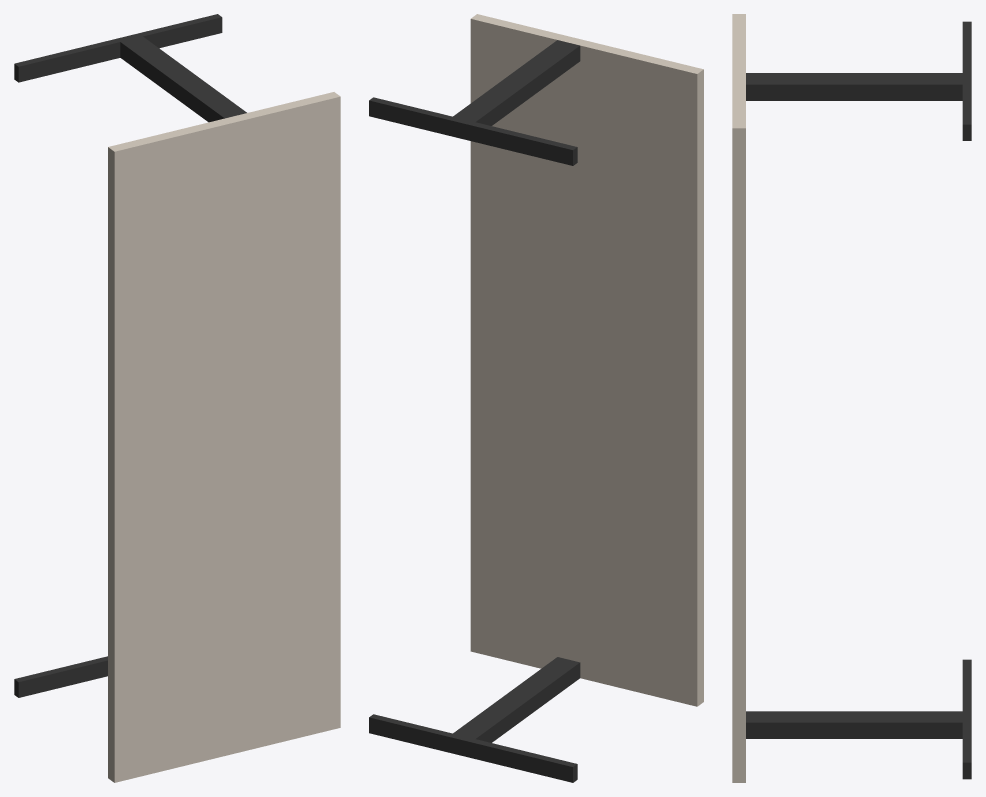
Rendered from table.glb.
3 renders of one model, left to right at view 1: azimuth 30°, elevation 25°; view 2: azimuth 150°, elevation 25°; view 3: azimuth 270°, elevation 25°, orthographic. The views are drawn at different scales.
Parts seen in each view (by area): view 1: table; view 2: table; view 3: table.
Boxes of the visible parts, <box> form: table: <box>14,14,340,782</box>; table: <box>369,14,703,782</box>; table: <box>732,14,971,782</box>.
Size of the model in its own units: 0.762 by 2.03 by 0.6731.
